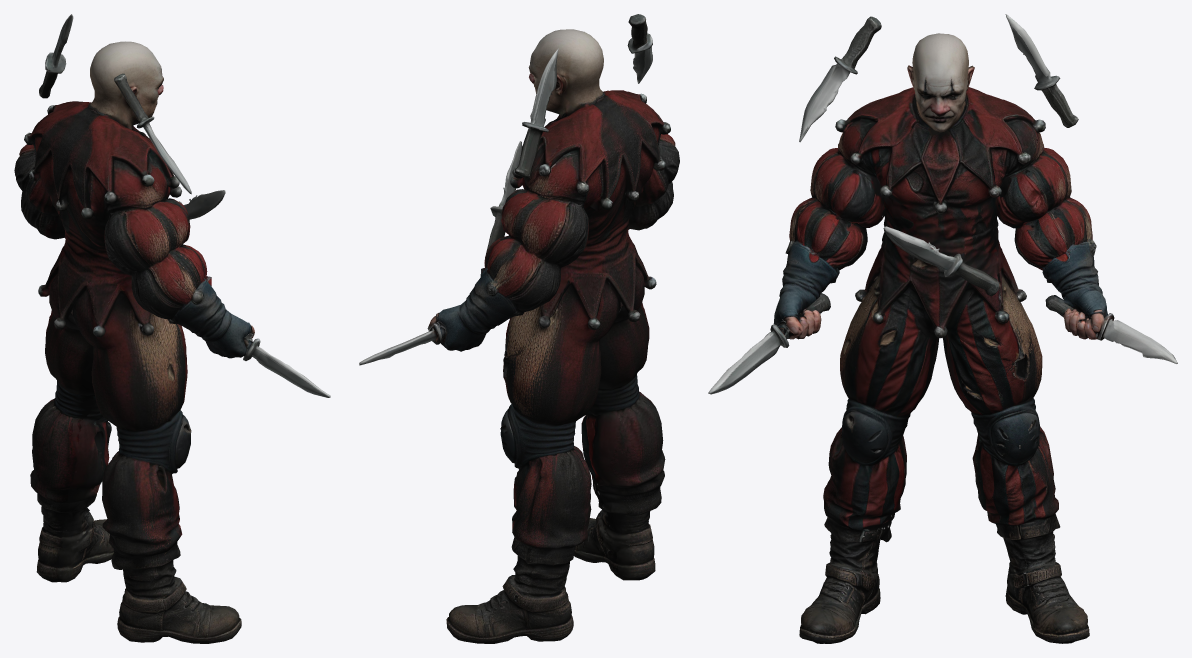
The model's file is yuito.glb.
3 renders of one model, left to right at view 1: azimuth 30°, elevation 25°; view 2: azimuth 150°, elevation 25°; view 3: azimuth 270°, elevation 25°, orthographic. The views are drawn at different scales.
Visible parts, largest first — view 1: tripo_node_f59c546c-1adc-427f-8e86-5443266bac33; view 2: tripo_node_f59c546c-1adc-427f-8e86-5443266bac33; view 3: tripo_node_f59c546c-1adc-427f-8e86-5443266bac33.
Part boxes in pixels (<box>): tripo_node_f59c546c-1adc-427f-8e86-5443266bac33: <box>14,14,330,643</box>; tripo_node_f59c546c-1adc-427f-8e86-5443266bac33: <box>359,14,679,643</box>; tripo_node_f59c546c-1adc-427f-8e86-5443266bac33: <box>708,14,1177,643</box>.
Size of the model in its own units: 0.3021 by 0.9999 by 0.7153.
1 material, 1 textured.
